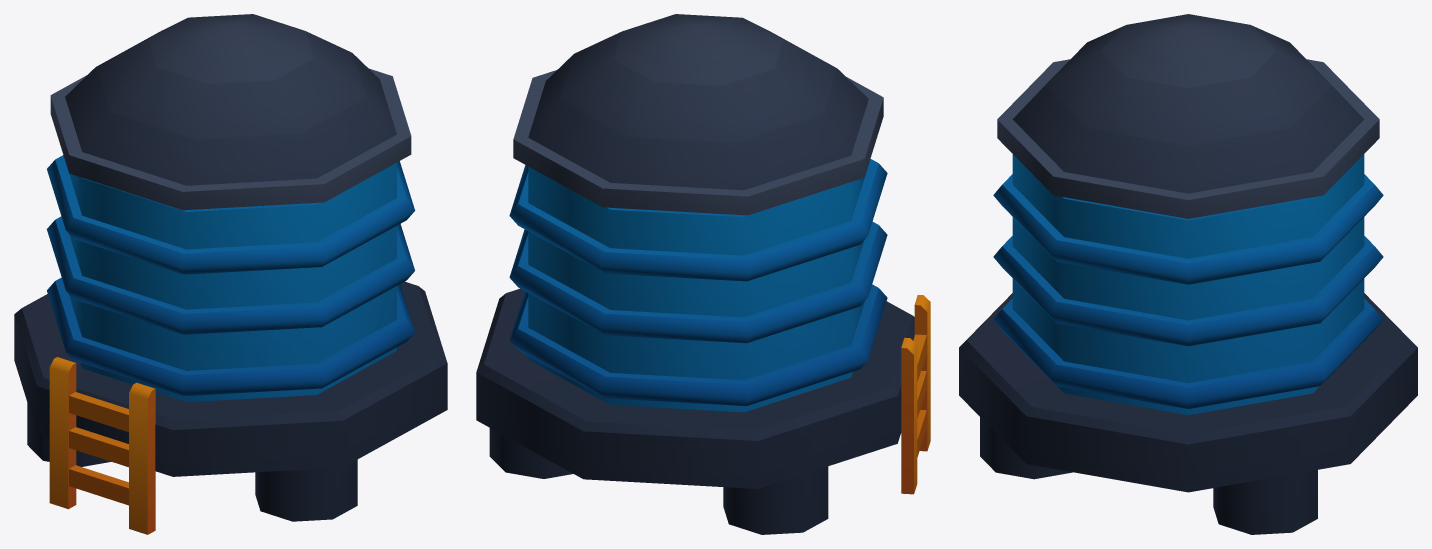
File: Tank 03.FBX
The picture shows the model from 3 angles, left to right: view 1: azimuth 30°, elevation 25°; view 2: azimuth 150°, elevation 25°; view 3: azimuth 270°, elevation 25°; orthographic projection. The views are drawn at different scales.
Visible parts, largest first — view 1: Tank 03; view 2: Tank 03; view 3: Tank 03.
Part boxes in pixels (bbox=[...]): Tank 03: bbox=[14, 14, 447, 534]; Tank 03: bbox=[476, 14, 930, 534]; Tank 03: bbox=[959, 14, 1417, 534].
Bounding box in the file's own units: 279 × 286 × 277.
Materials: 1 (1 with a texture image).
